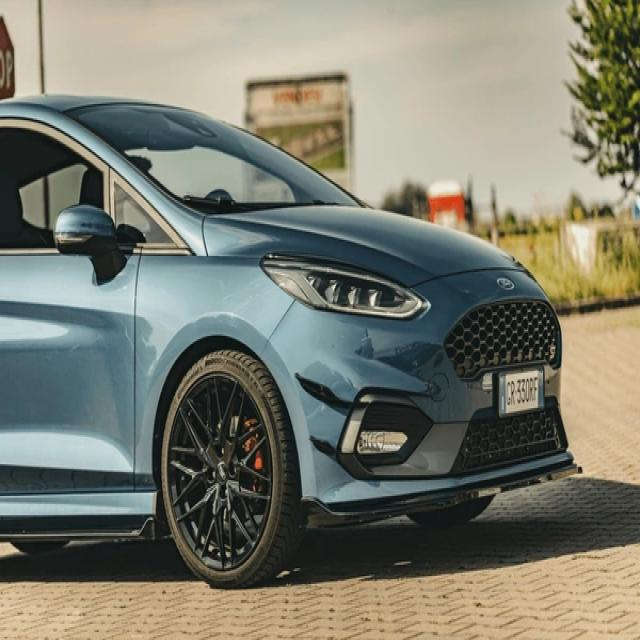ford: (493, 275, 520, 293)
